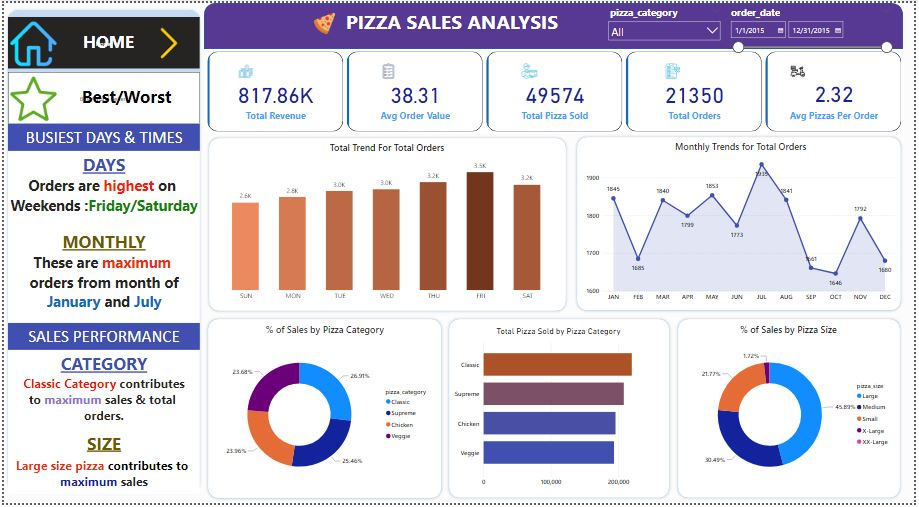

This screenshot's page, from the dashboard's own definition file:
{"tool":"powerbi","page":{"name":"Home","canvas":[2000,1100],"ordinal":0},"visuals":[{"type":"shape","box":[0,6.6,440,1080.2],"z":0},{"type":"shape","box":[970.2,686.4,501.6,411.4],"z":0,"group":"g3"},{"type":"cardVisual","fields":{"Data":["pizza_sales.Total Revenue","pizza_sales.Avg Order Value","pizza_sales.Total Pizza Sold","pizza_sales.Total Orders","pizza_sales.Avg Pizzas Per Order"]},"box":[442.2,101.2,1537.8,187],"z":1000},{"type":"clusteredBarChart","title":"Total Pizza Sold by Pizza Category","fields":{"Category":["pizza_sales.pizza_category"],"Y":["pizza_sales.Total Revenue"]},"box":[986.5,709.9,468.9,361.4],"z":1000,"group":"g3"},{"type":"shape","box":[440,0,1537.8,101.2],"z":2000},{"type":"textbox","box":[563.2,6.6,844.8,77],"z":3000},{"type":"image","box":[664.4,15.4,81.4,59.4],"z":4000},{"type":"shape","box":[442.2,288.2,803,398.2],"z":4000,"group":"g5"},{"type":"group","id":"g1","title":"Group 1","box":[1251.8,286,728.2,398.2],"z":5000},{"type":"columnChart","title":"Total Trend For Total Orders","fields":{"Category":["pizza_sales.Order Day"],"Y":["pizza_sales.Total Orders"]},"box":[455.4,303.8,774.4,361.5],"z":5000,"group":"g5"},{"type":"shape","box":[1251.8,286,730.5,398.6],"z":6000,"group":"g1"},{"type":"group","id":"g2","title":"Group 2","box":[1474,686.4,506,411.4],"z":6000},{"type":"areaChart","title":"Monthly Trends for Total Orders","fields":{"Category":["pizza_sales.Order Month"],"Y":["pizza_sales.Total Orders"]},"box":[1274.9,301.4,689.3,362.6],"z":7000,"group":"g1"},{"type":"group","id":"g3","title":"Group 3","box":[970.2,686.4,501.6,411.4],"z":7000},{"type":"group","id":"g4","title":"Group 4","box":[440,686.4,530.2,411.4],"z":8000},{"type":"shape","box":[440,686.4,530.7,411.8],"z":8000,"group":"g4"},{"type":"textbox","box":[8.8,266.2,422.4,59.4],"z":9000},{"type":"donutChart","title":"% of Sales by Pizza Category","fields":{"Category":["pizza_sales.pizza_category"],"Y":["pizza_sales.Total Revenue"]},"box":[455.4,704.1,500.6,376.1],"z":9000,"group":"g4"},{"type":"group","id":"g5","title":"Group 5","box":[442.2,288.2,803,398.2],"z":10000},{"type":"shape","box":[1474,686.4,506,411.4],"z":10000,"group":"g2"},{"type":"textbox","box":[8.8,325.6,422.4,378.4],"z":11000},{"type":"donutChart","title":"% of Sales by Pizza Size","fields":{"Y":["pizza_sales.Total Revenue"],"Category":["pizza_sales.pizza_size"]},"box":[1490.4,704,473.2,376.1],"z":11000,"group":"g2"},{"type":"textbox","box":[8.8,704,422.4,59.4],"z":12000},{"type":"textbox","box":[8.8,763.4,422.4,316.8],"z":13000},{"type":"slicer","fields":{"Values":["pizza_sales.pizza_category"]},"box":[1320,0,266.2,101.2],"z":14000},{"type":"slicer","fields":{"Values":["pizza_sales.order_date"]},"box":[1586.2,0,376.2,167.2],"z":15000},{"type":"pageNavigator","box":[8.8,30.8,422.4,114.4],"z":16000},{"type":"pageNavigator","box":[8.8,151.8,422.4,114.4],"z":17000},{"type":"image","box":[323.4,30.8,79.2,114.4],"z":18000},{"type":"image","box":[8.8,30.8,112.2,116.6],"z":19000},{"type":"image","box":[8.8,151.8,112.2,116.6],"z":20000},{"type":"textbox","box":[136.4,55,187,70.4],"z":21000},{"type":"textbox","box":[136.4,176,266.2,70.4],"z":21001}]}

Visuals, with their boxes in screenshot pixels (x1, y1, x2, y2), scaled from the page's 2000x1100 canvas onto the 919x507 screenshot:
shape: region(0, 3, 202, 501)
shape: region(446, 316, 676, 506)
cardVisual - pizza_sales.Total Revenue x pizza_sales.Avg Order Value: region(203, 47, 910, 133)
"Total Pizza Sold by Pizza Category" clusteredBarChart: region(453, 327, 669, 494)
shape: region(202, 0, 909, 47)
textbox: region(259, 3, 647, 39)
image: region(305, 7, 343, 34)
shape: region(203, 133, 572, 316)
"Group 1" group: region(575, 132, 910, 315)
"Total Trend For Total Orders" columnChart: region(209, 140, 565, 307)
shape: region(575, 132, 911, 316)
"Group 2" group: region(677, 316, 910, 506)
"Monthly Trends for Total Orders" areaChart: region(586, 139, 903, 306)
"Group 3" group: region(446, 316, 676, 506)
"Group 4" group: region(202, 316, 446, 506)
shape: region(202, 316, 446, 506)
textbox: region(4, 123, 198, 150)
"% of Sales by Pizza Category" donutChart: region(209, 325, 439, 498)
"Group 5" group: region(203, 133, 572, 316)
shape: region(677, 316, 910, 506)
textbox: region(4, 150, 198, 324)
"% of Sales by Pizza Size" donutChart: region(685, 324, 902, 498)
textbox: region(4, 324, 198, 352)
textbox: region(4, 352, 198, 498)
slicer - pizza_sales.pizza_category: region(607, 0, 729, 47)
slicer - pizza_sales.order_date: region(729, 0, 902, 77)
pageNavigator: region(4, 14, 198, 67)
pageNavigator: region(4, 70, 198, 123)
image: region(149, 14, 185, 67)
image: region(4, 14, 56, 68)
image: region(4, 70, 56, 124)
textbox: region(63, 25, 149, 58)
textbox: region(63, 81, 185, 114)
